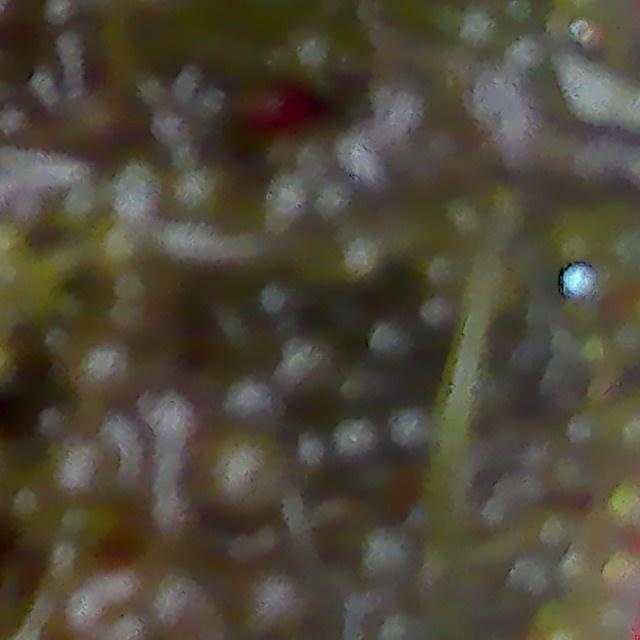SeaGrape: (218, 432, 290, 504), (78, 332, 139, 399), (239, 580, 309, 626), (360, 529, 419, 583), (62, 425, 109, 490), (283, 338, 336, 394), (153, 580, 206, 633), (334, 416, 378, 462), (369, 320, 413, 366), (388, 407, 433, 451), (0, 109, 45, 152), (609, 484, 640, 532)
